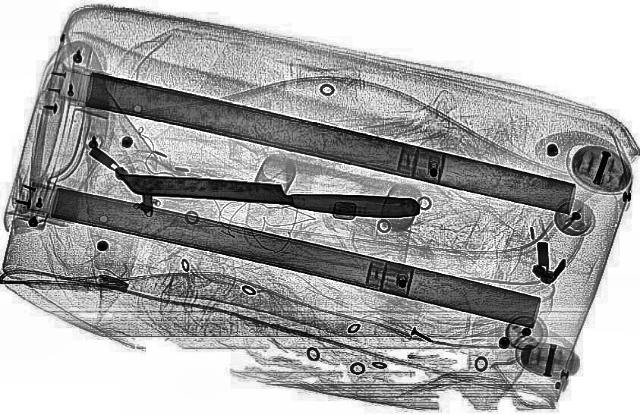Knife: (118, 172, 422, 220)
